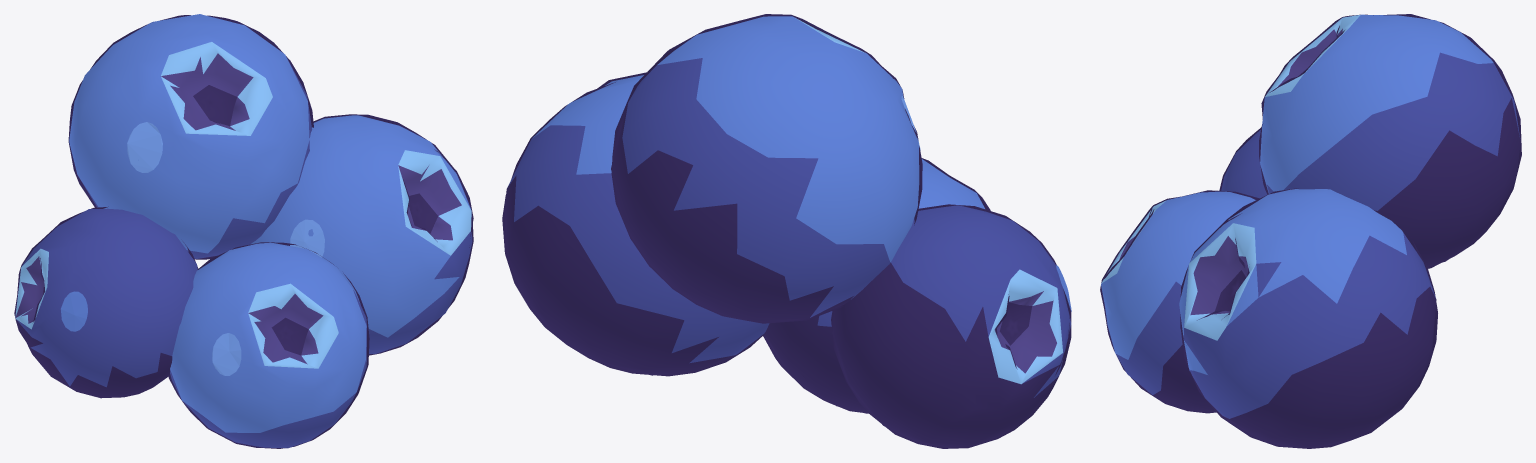
The model's file is blueberries.glb.
The picture shows the model from 3 angles, left to right: view 1: azimuth 30°, elevation 25°; view 2: azimuth 150°, elevation 25°; view 3: azimuth 270°, elevation 25°; orthographic projection. The views are drawn at different scales.
Parts seen in each view (by area): view 1: Berry 01 back.001; view 2: Berry 01 back.001; view 3: Berry 01 back.001.
Boxes of the visible parts, left/top/right/bottom form: Berry 01 back.001: left=14, top=14, right=473, bottom=448; Berry 01 back.001: left=502, top=14, right=1071, bottom=448; Berry 01 back.001: left=1100, top=14, right=1521, bottom=448.
Size of the model in its own units: 2.54 by 2 by 2.
